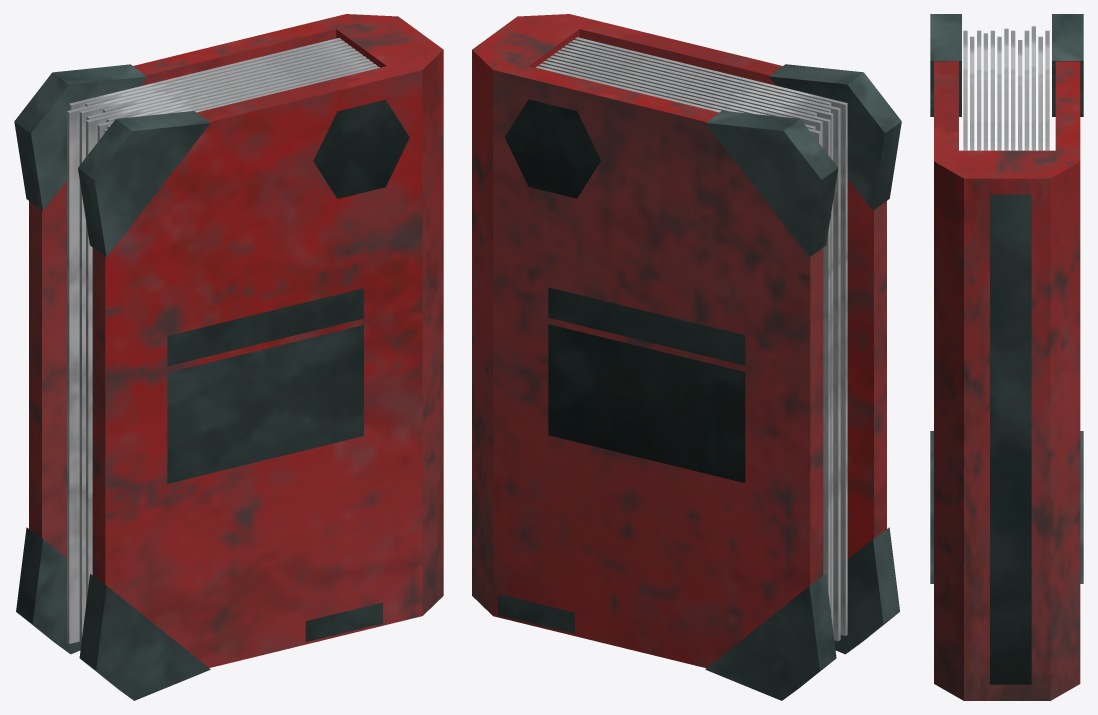
Rendered from Book3_SM.fbx.
3 views of the same model, side by side, from view 1: azimuth 30°, elevation 25°; view 2: azimuth 150°, elevation 25°; view 3: azimuth 270°, elevation 25° (orthographic). The views are drawn at different scales.
Parts seen in each view (by area): view 1: Book_SM001; view 2: Book_SM001; view 3: Book_SM001.
Part boxes in pixels (box(x1,y1,x2,y2)): Book_SM001: box(14, 14, 443, 700); Book_SM001: box(472, 14, 901, 700); Book_SM001: box(930, 14, 1083, 700).
Bounding box in the file's own units: 28.54 × 42.4 × 10.81.
